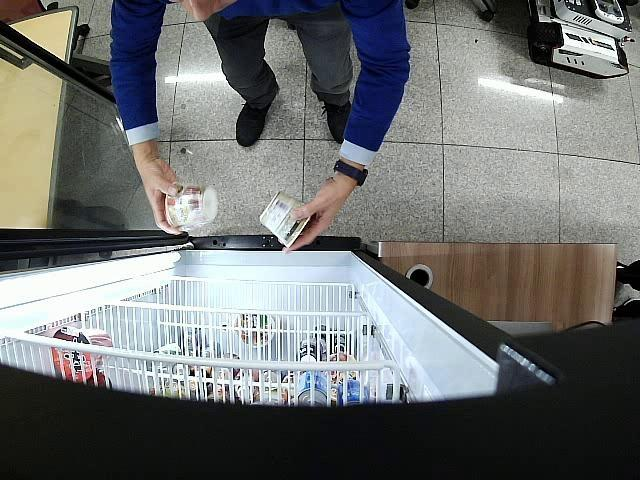04_chapagetti_S: (260, 190, 311, 248), (166, 183, 218, 229)
